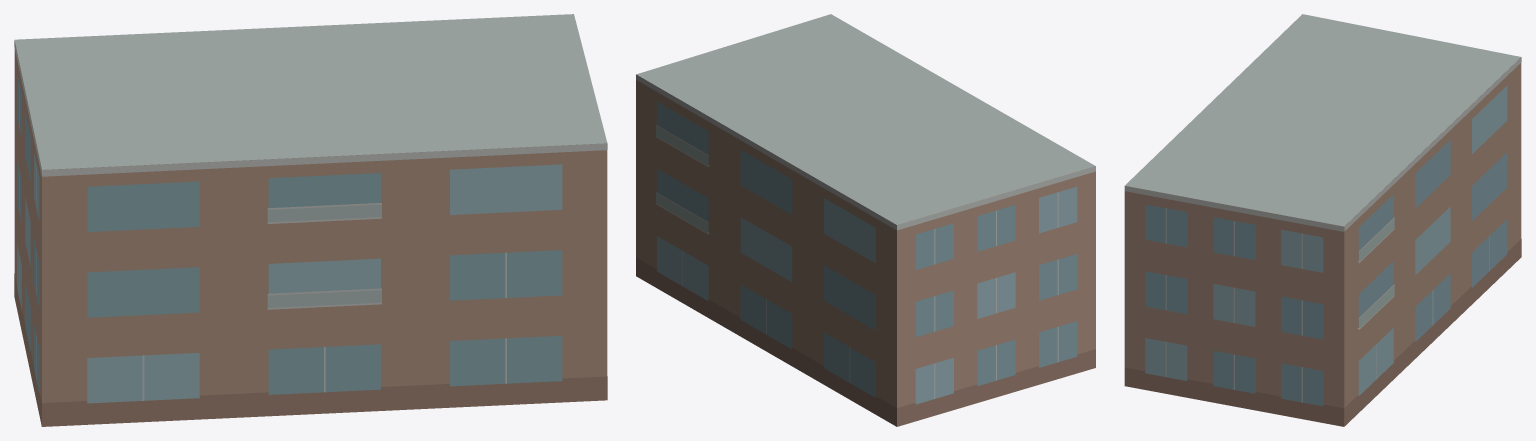
File: survey-upis-32552232.glb
3 renders of one model, left to right at view 1: azimuth 30°, elevation 25°; view 2: azimuth 150°, elevation 25°; view 3: azimuth 270°, elevation 25°, orthographic. The views are drawn at different scales.
Visible parts, largest first — view 1: survey-upis-32552232.tmp; view 2: survey-upis-32552232.tmp; view 3: survey-upis-32552232.tmp.
Part boxes in pixels (<box>): survey-upis-32552232.tmp: <box>14,14,607,426</box>; survey-upis-32552232.tmp: <box>636,14,1095,426</box>; survey-upis-32552232.tmp: <box>1124,14,1521,426</box>.
Size of the model in its own units: 20.83 by 9.15 by 16.43.
